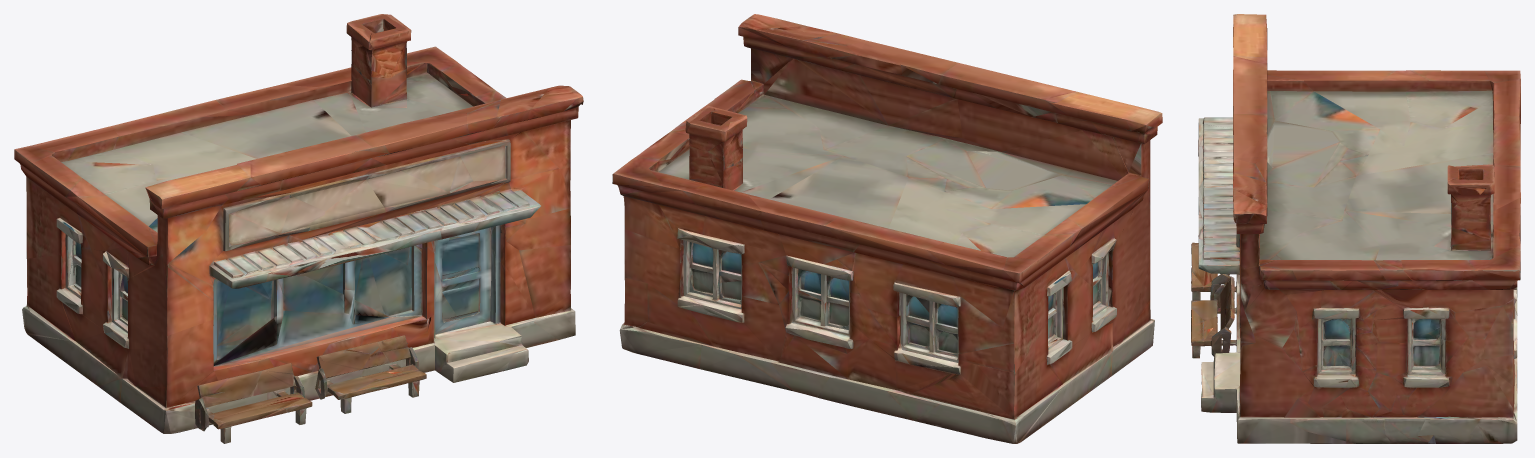
Rendered from town_small_flat_1x1_2.glb.
The picture shows the model from 3 angles, left to right: view 1: azimuth 30°, elevation 25°; view 2: azimuth 150°, elevation 25°; view 3: azimuth 270°, elevation 25°; orthographic projection. The views are drawn at different scales.
Parts seen in each view (by area): view 1: normalize; view 2: normalize; view 3: normalize.
Part boxes in pixels (bbox=[...]): normalize: bbox=[14, 14, 583, 443]; normalize: bbox=[612, 14, 1162, 443]; normalize: bbox=[1191, 14, 1520, 443].
Size of the model in its own units: 1 by 0.5441 by 0.6959.
Materials: 1 (1 with a texture image).
